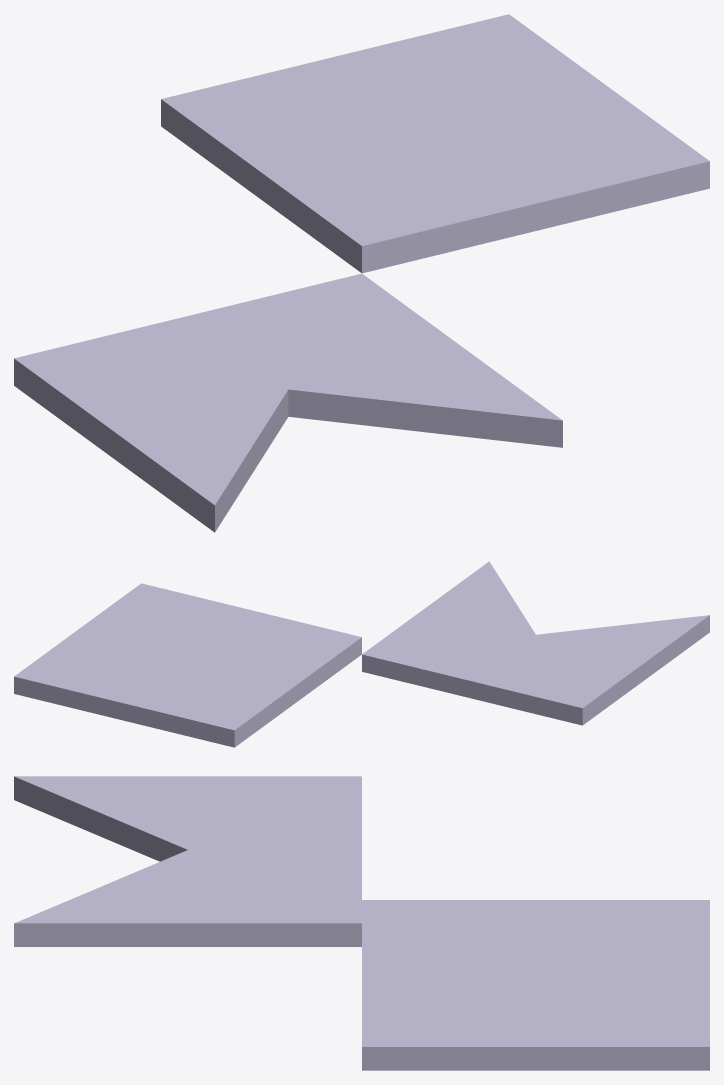
The model's file is Roofs New.fbx.
The picture shows the model from 3 angles, top to bottom: view 1: azimuth 30°, elevation 25°; view 2: azimuth 150°, elevation 25°; view 3: azimuth 270°, elevation 25°; orthographic projection. The views are drawn at different scales.
Visible parts, largest first — view 1: SM_Lobby_Roof__01, SM_Lobby_Floor_04.002, SM_Lobby_Floor_04.003, SM_Lobby_Roof__02, SM_Lobby_Roof__03; view 2: SM_Lobby_Roof__01, SM_Lobby_Floor_04.003, SM_Lobby_Roof__02, SM_Lobby_Floor_04.002, SM_Lobby_Roof__03; view 3: SM_Lobby_Roof__01, SM_Lobby_Floor_04.002, SM_Lobby_Floor_04.003, SM_Lobby_Roof__02, SM_Lobby_Roof__03.
Part boxes in pixels (x1,y1,x2,y2): SM_Lobby_Roof__01: (161,14,709,273); SM_Lobby_Floor_04.002: (60,273,562,447); SM_Lobby_Floor_04.003: (14,317,300,532); SM_Lobby_Roof__02: (162,57,534,271); SM_Lobby_Roof__03: (164,78,447,272); SM_Lobby_Roof__01: (14,583,361,747); SM_Lobby_Floor_04.003: (362,615,709,725); SM_Lobby_Roof__02: (124,610,361,747); SM_Lobby_Floor_04.002: (362,561,582,725); SM_Lobby_Roof__03: (179,624,359,746); SM_Lobby_Roof__01: (362,900,709,1070); SM_Lobby_Floor_04.002: (14,785,361,946); SM_Lobby_Floor_04.003: (14,776,361,890); SM_Lobby_Roof__02: (362,900,709,973); SM_Lobby_Roof__03: (362,900,647,936).
Size of the model in its own units: 800 by 60 by 800.
